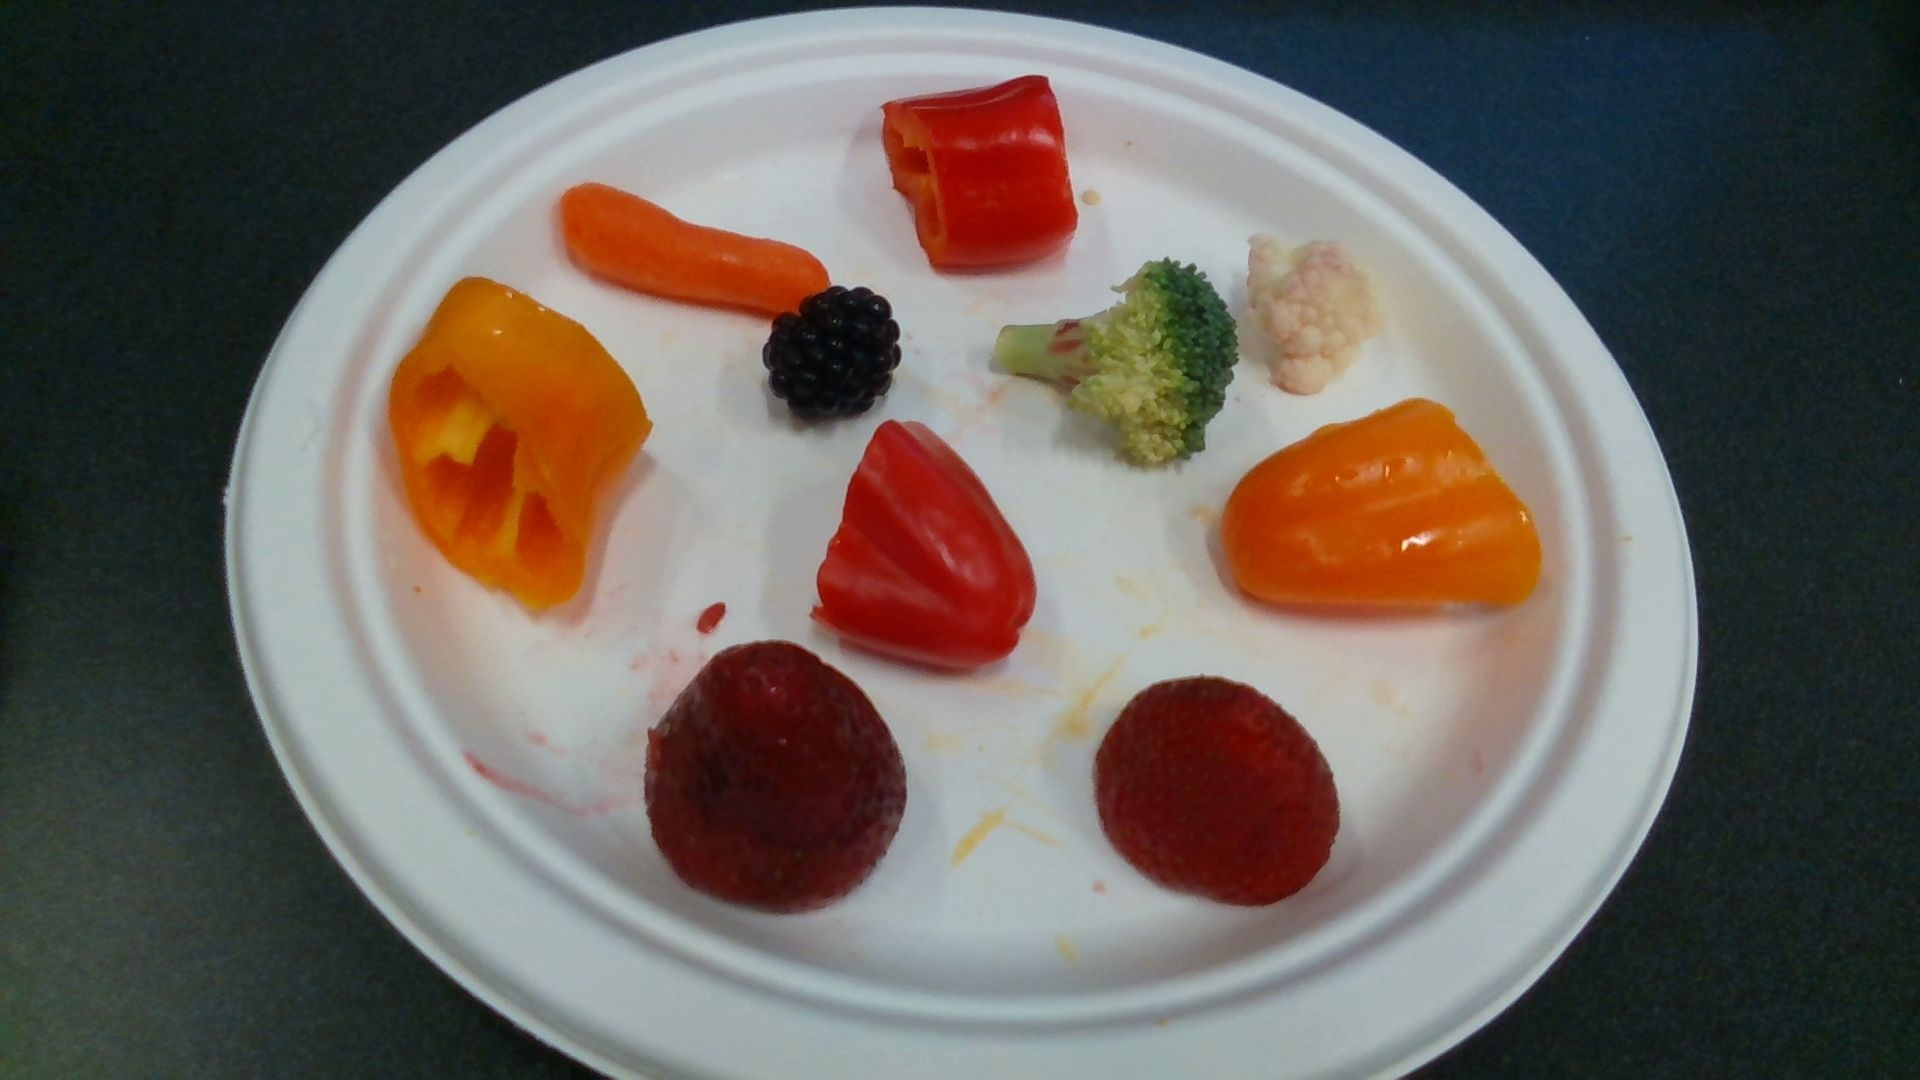bell_pepper: (396, 280, 645, 605), (1224, 404, 1542, 613), (820, 423, 1035, 670), (887, 76, 1079, 265)
blackberry: (769, 293, 899, 418)
broccoli: (992, 265, 1236, 458)
carrot: (560, 185, 829, 311)
cauliflower: (1249, 235, 1375, 393)
strawberry: (647, 646, 905, 909), (1098, 676, 1340, 899)
